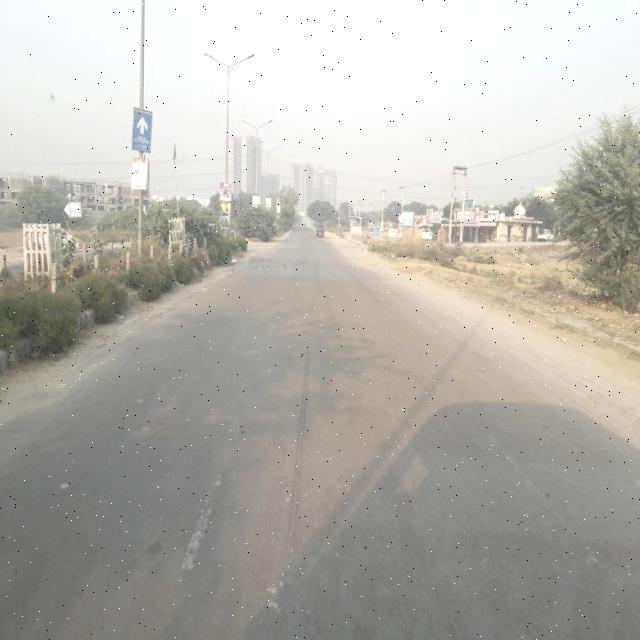D44: (487, 428, 596, 554), (182, 413, 244, 577)
